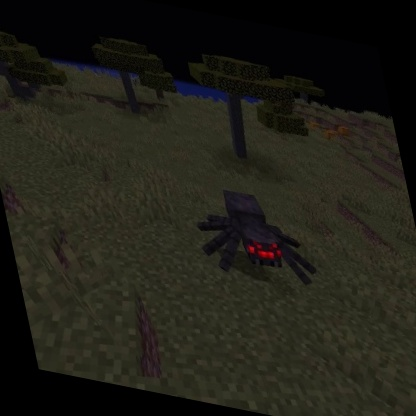spider: (182, 177, 325, 295)
